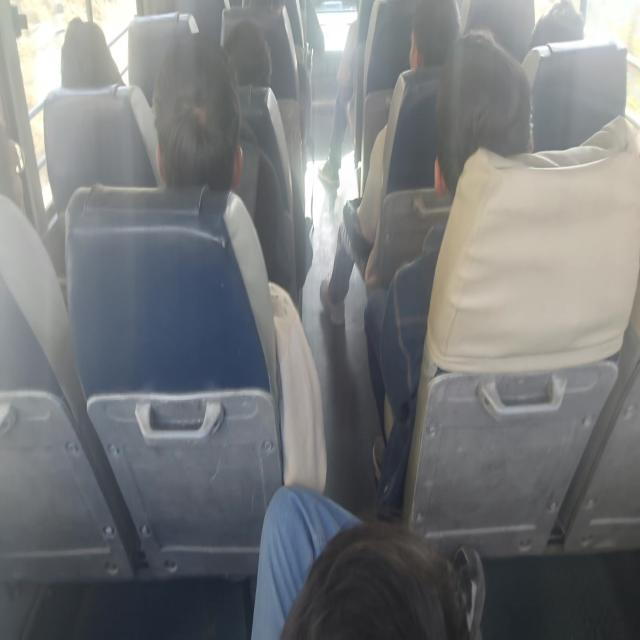person: (259, 502, 479, 640), (433, 40, 533, 202), (156, 33, 242, 193), (57, 11, 125, 93), (403, 0, 465, 83), (220, 20, 280, 102), (530, 0, 586, 59), (0, 114, 28, 216)
